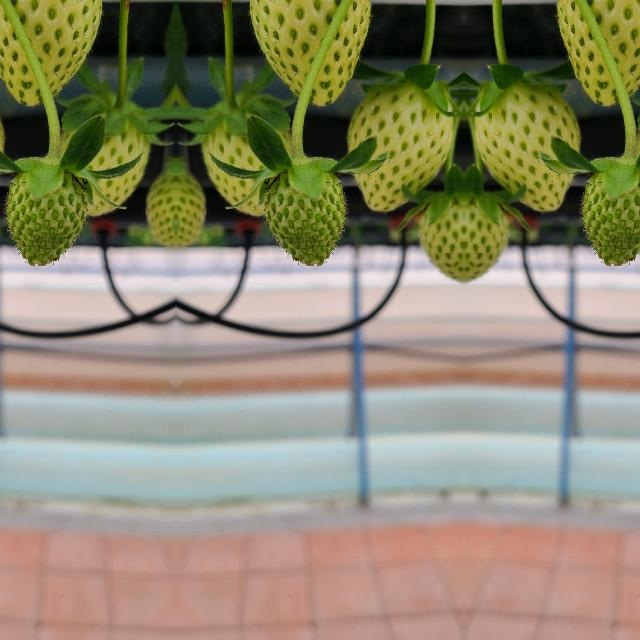Health_25: (348, 69, 462, 213), (464, 69, 578, 213), (244, 0, 376, 112), (198, 85, 306, 217), (45, 85, 152, 217), (0, 0, 106, 112), (550, 0, 640, 112), (263, 175, 345, 265), (5, 175, 87, 265), (411, 172, 463, 290), (463, 172, 515, 290), (581, 175, 640, 265), (132, 159, 176, 267), (175, 159, 218, 267)
